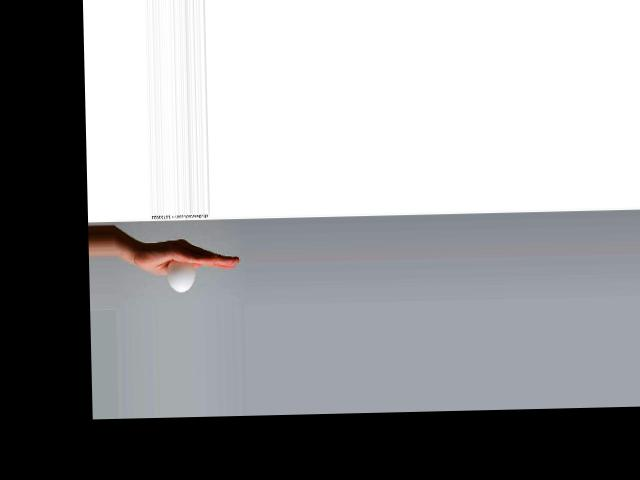egg: (168, 258, 195, 292)
